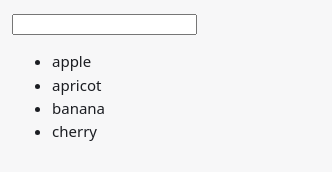
Test: useDeferredValue › input is immediate; the list catches up with the deferred value
Expected: the number of list items is 4, 52,51 -> 91,71; 52,74 -> 101,94; 52,98 -> 105,118; 52,121 -> 97,141
Type "ap" into the search field at x=104, y=24, box 12,14 -> 197,35
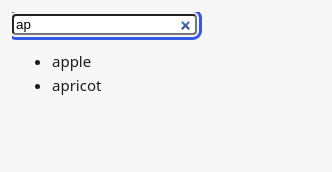
Result: the number of list items is 2 at 52,51 -> 91,71; 52,74 -> 101,94
